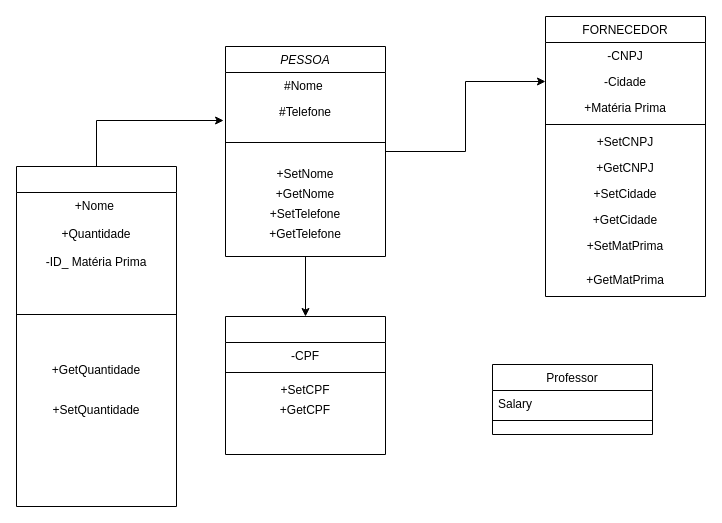
The diagram is 722 pixels wide and 523 high, and some of its shapes have lost their labels. The shapes that lost their labels are listed below. From the top down, each one's box as (x1, y1, x2, y2) in pixels, then its label:
(16, 166, 176, 506): MAT Prima
(224, 316, 386, 454): CLIENTE
